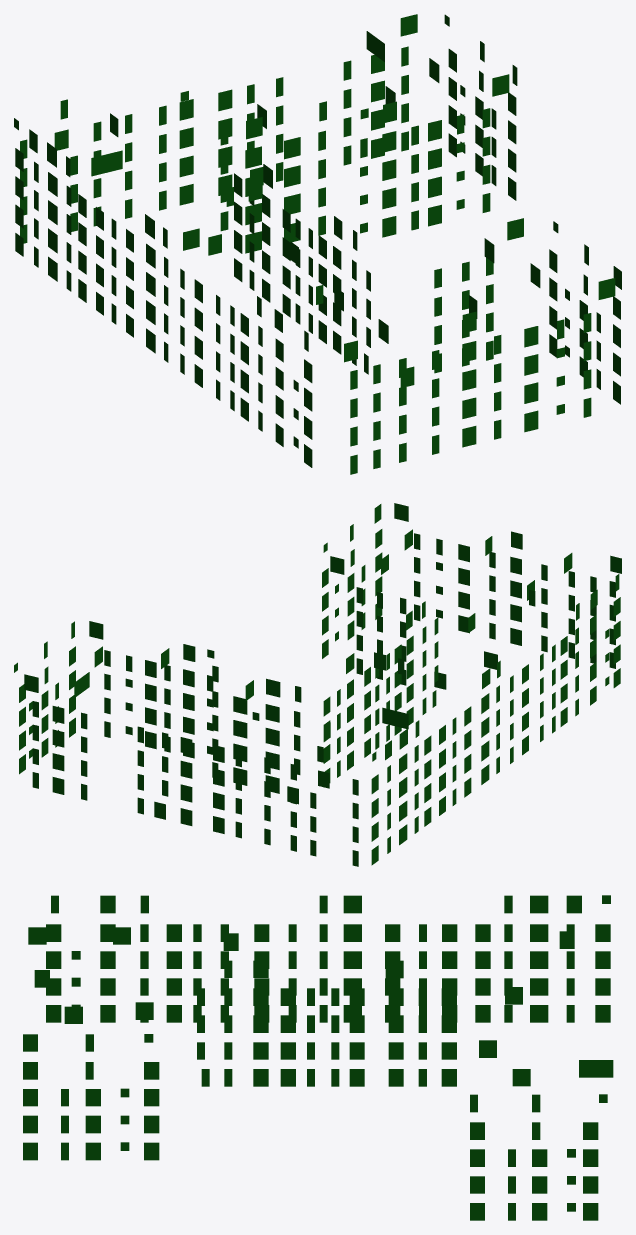
The model's file is Szyby.fbx.
3 views of the same model, one above another, from view 1: azimuth 30°, elevation 25°; view 2: azimuth 150°, elevation 25°; view 3: azimuth 270°, elevation 25° (orthographic). The views are drawn at different scales.
Parts seen in each view (by area): view 1: no part large enough to name; view 2: no part large enough to name; view 3: Szyba.
Part boxes in pixels (x1,y1,x2,y2): Szyba: [579, 1060, 613, 1077].
Size of the model in its own units: 4655 by 6005 by 1381.
